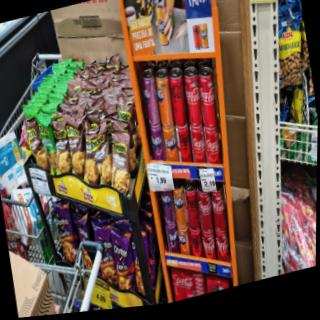beverage: (137, 66, 163, 132), (181, 65, 205, 131), (166, 70, 190, 128), (154, 65, 175, 130), (181, 179, 202, 233)
food-box: (104, 121, 137, 204), (82, 121, 117, 193), (107, 220, 139, 298), (47, 200, 81, 267), (91, 218, 121, 291), (61, 114, 91, 179), (49, 113, 76, 179), (35, 113, 62, 178)
